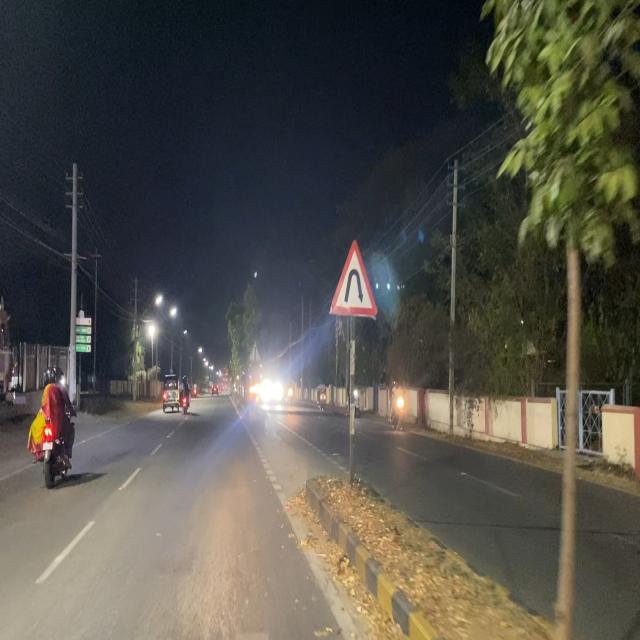bien_cam: (328, 237, 378, 322)
